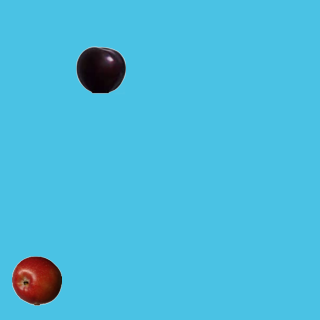Apple Braeburn: (11, 255, 61, 305)
Cherry Wax Black: (75, 44, 125, 94)
